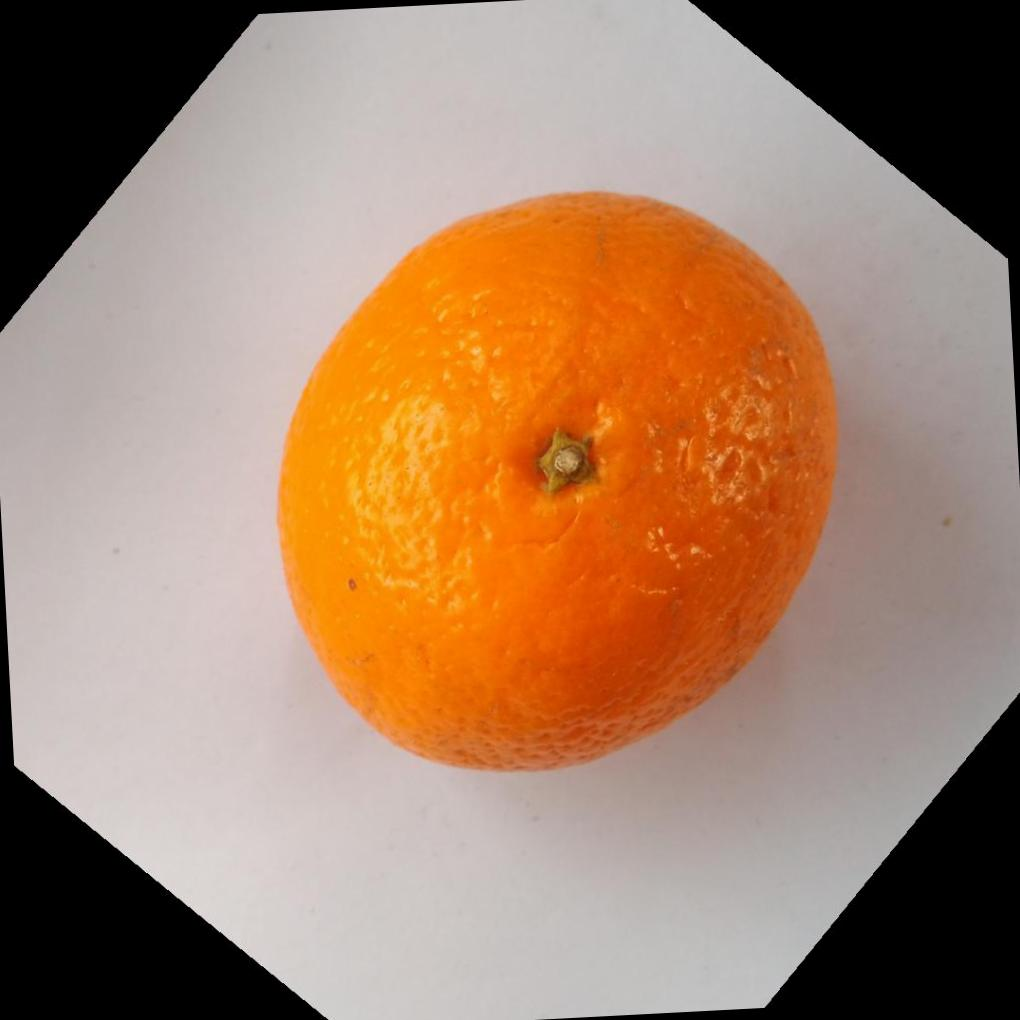FreshGuava: (273, 183, 841, 770)
